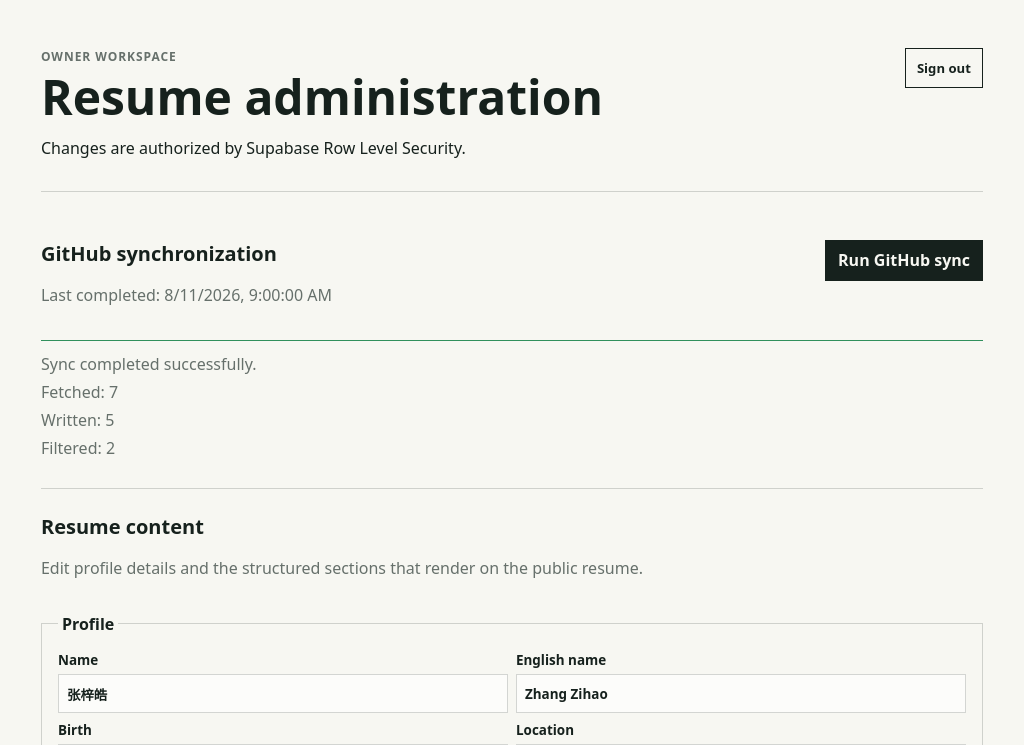
Test: AdminPage › renders typed server sync failure counts returned through the Functions HTTP error response
Click the button "Run GitHub sync" at (904, 260), box [825,240,983,281]
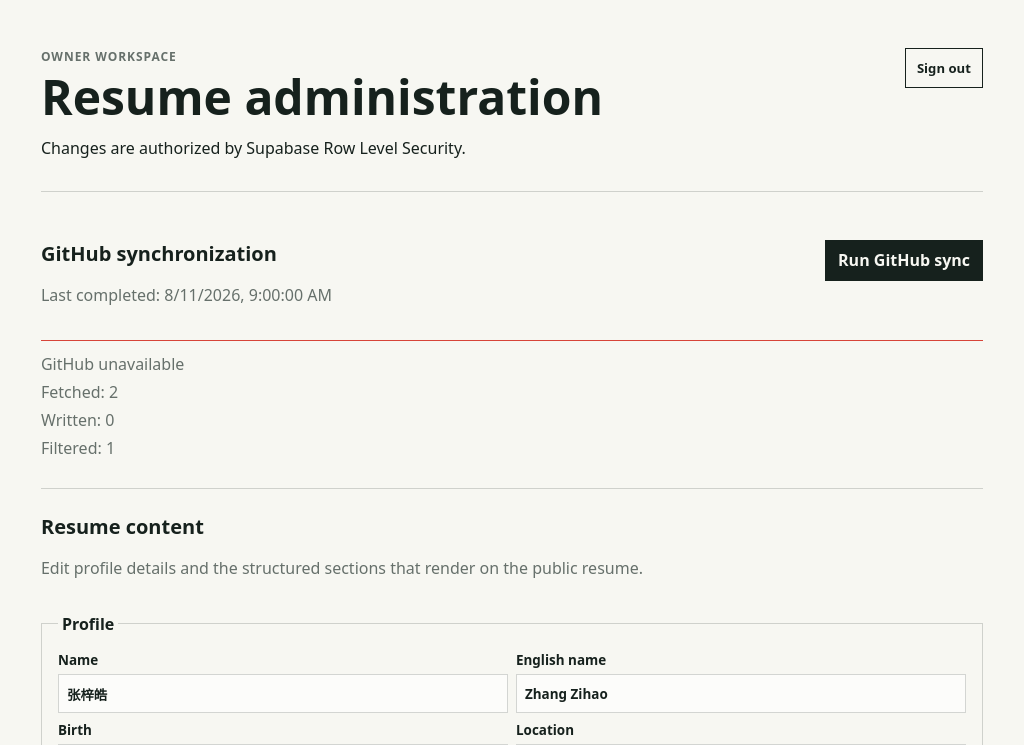
expect the message reads "GitHub unavailable": met, box [41,353,184,375]
expect the text "Fetched: 2" is shown: met, box [41,381,118,403]
